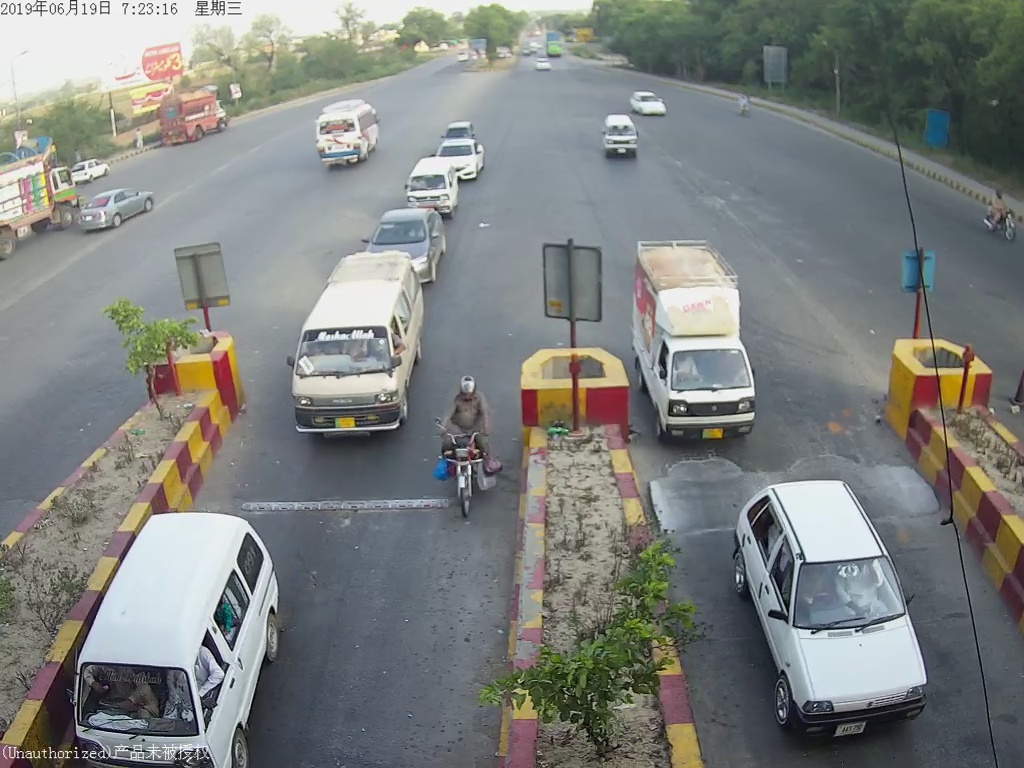Cat-1: (724, 481, 945, 750), (74, 509, 294, 768), (629, 238, 772, 450)
Cat-2: (290, 262, 433, 443)
